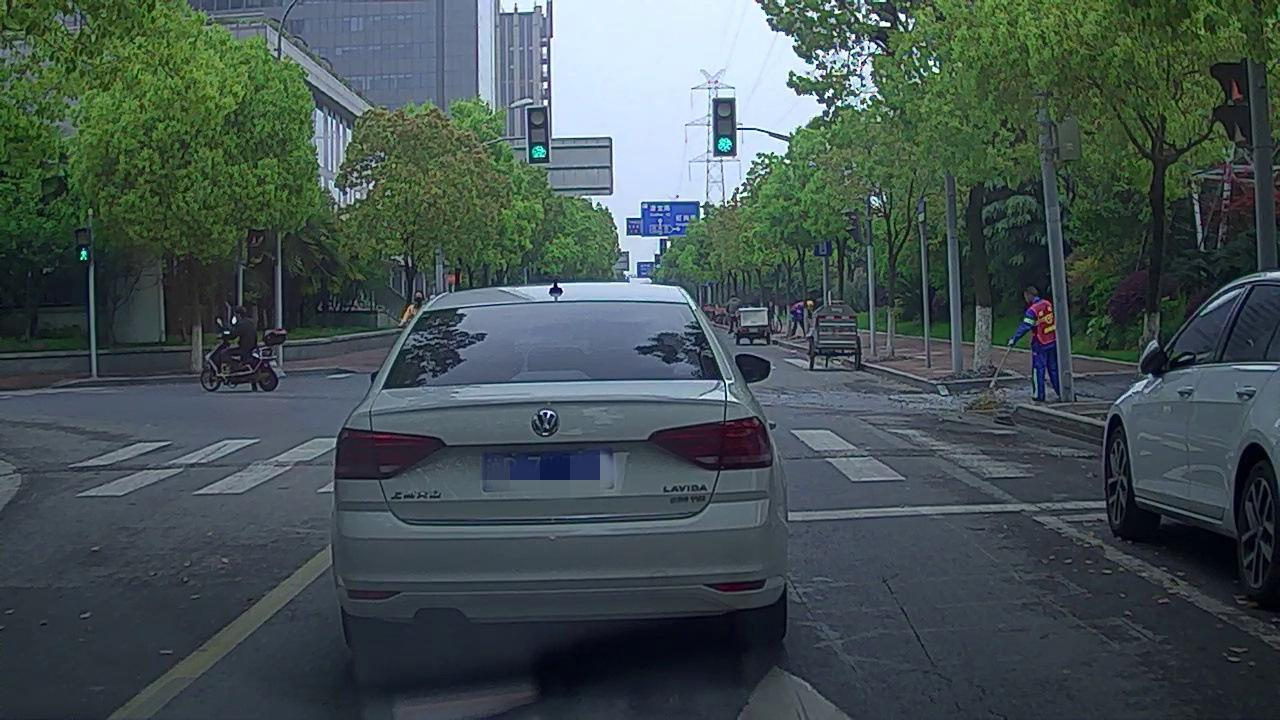traffic_light: (714, 97, 736, 155), (528, 108, 550, 163)
